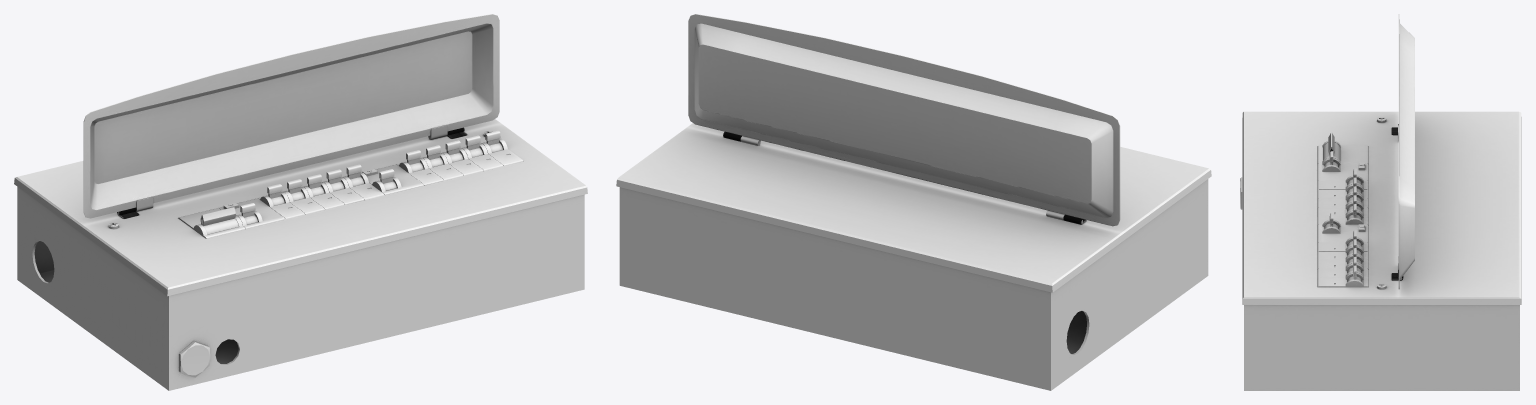
File: fusebox-transformed.glb
3 renders of one model, left to right at view 1: azimuth 30°, elevation 25°; view 2: azimuth 150°, elevation 25°; view 3: azimuth 270°, elevation 25°, orthographic. The views are drawn at different scales.
Visible parts, largest first — view 1: fuse_box, fuse_box_cover; view 2: fuse_box, fuse_box_cover; view 3: fuse_box, fuse_box_cover.
Boxes of the visible parts, x1,y1,x2,y2 form: fuse_box: (14,119,587,390); fuse_box_cover: (83,14,499,218); fuse_box: (616,123,1211,390); fuse_box_cover: (688,14,1120,226); fuse_box: (1240,111,1521,390); fuse_box_cover: (1398,14,1414,289).
Bounding box in the file's own units: 0.3845 × 0.1949 × 0.2446.
Materials: 2 (2 with a texture image).
